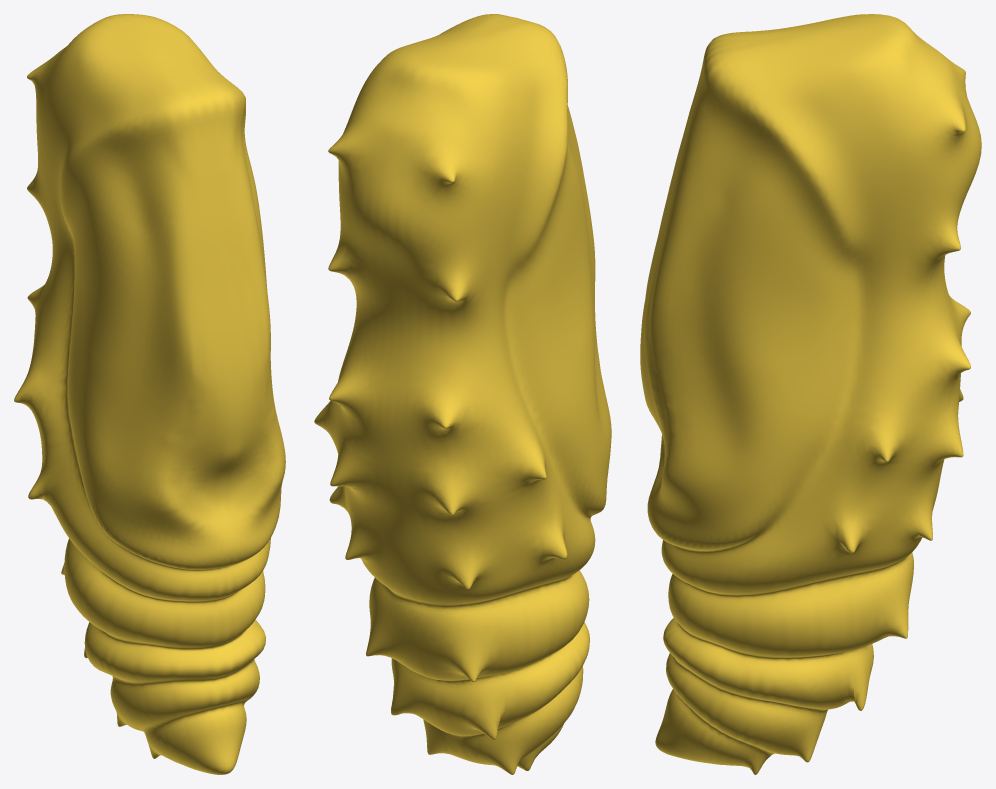
Rendered from simple_chris_chrysalis.glb.
3 views of the same model, side by side, from view 1: azimuth 30°, elevation 25°; view 2: azimuth 150°, elevation 25°; view 3: azimuth 270°, elevation 25° (orthographic). The views are drawn at different scales.
Visible parts, largest first — view 1: Object_2; view 2: Object_2; view 3: Object_2.
Part boxes in pixels (box(x1,y1,x2,y2)): Object_2: box(14, 14, 285, 774); Object_2: box(314, 14, 611, 774); Object_2: box(640, 14, 981, 774).
Bounding box in the file's own units: 5.77 × 17.52 × 7.39.
